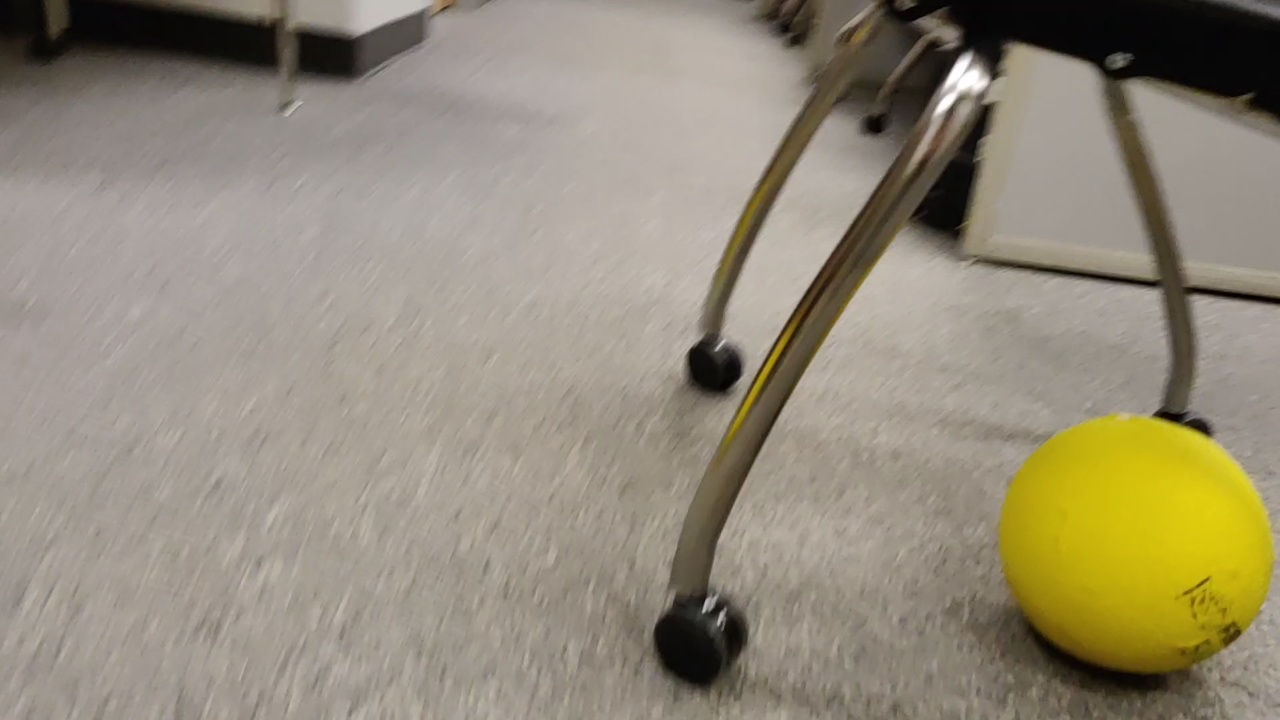Ball: (997, 414, 1280, 685)
